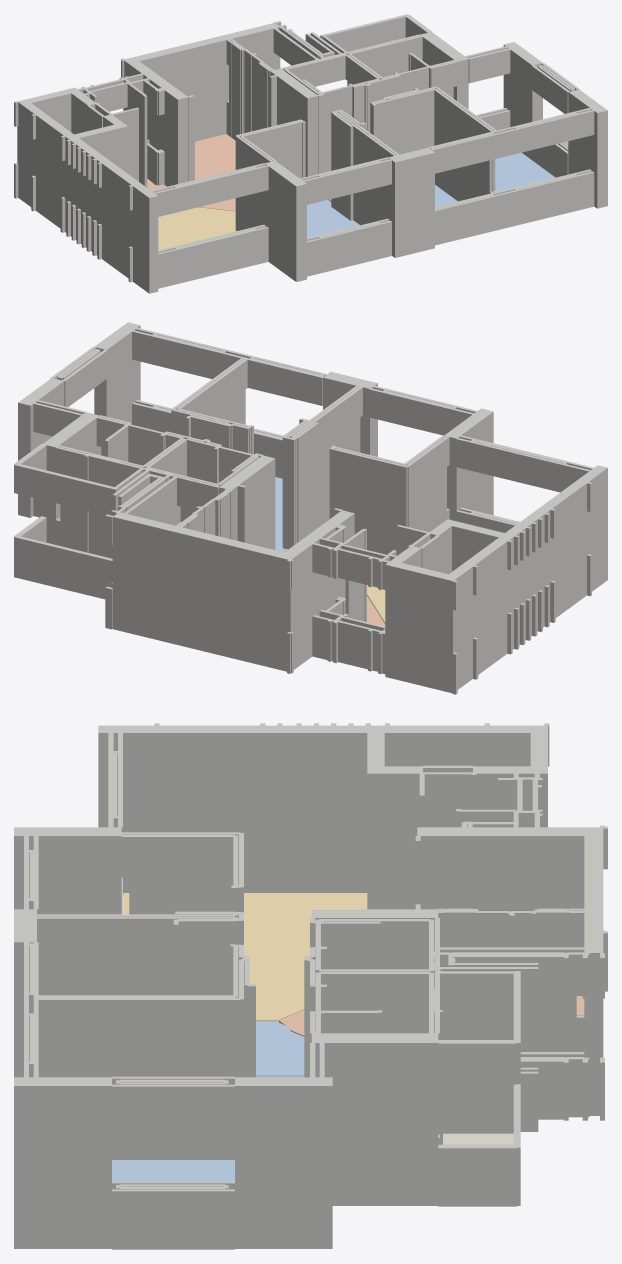
3 views of the same model, one above another, from view 1: azimuth 30°, elevation 25°; view 2: azimuth 150°, elevation 25°; view 3: azimuth 270°, elevation 25° (orthographic). The views are drawn at different scales.
Visible parts, largest first — view 1: walls, room:living:2, room:kitchen:0, room:bedroom:8, room:bedroom:3; view 2: walls, room:bedroom:7; view 3: walls, room:living:2, room:bedroom:8, room:bedroom:3, room:other:10.
Part boxes in pixels (x1=…): walls: x1=14, y1=14, x2=607, y2=293; room:living:2: x1=158, y1=207, x2=236, y2=250; room:kitchen:0: x1=147, y1=134, x2=235, y2=211; room:bedroom:8: x1=495, y1=152, x2=555, y2=191; room:bedroom:3: x1=307, y1=200, x2=359, y2=238; walls: x1=14, y1=322, x2=607, y2=694; room:bedroom:7: x1=275, y1=477, x2=287, y2=552; walls: x1=14, y1=723, x2=607, y2=1249; room:living:2: x1=123, y1=893, x2=367, y2=1021; room:bedroom:8: x1=112, y1=1160, x2=234, y2=1181; room:bedroom:3: x1=256, y1=1021, x2=304, y2=1076; room:other:10: x1=443, y1=1133, x2=513, y2=1144.
Bounding box in the file's own units: 13.4 × 2.8 × 9.26.
